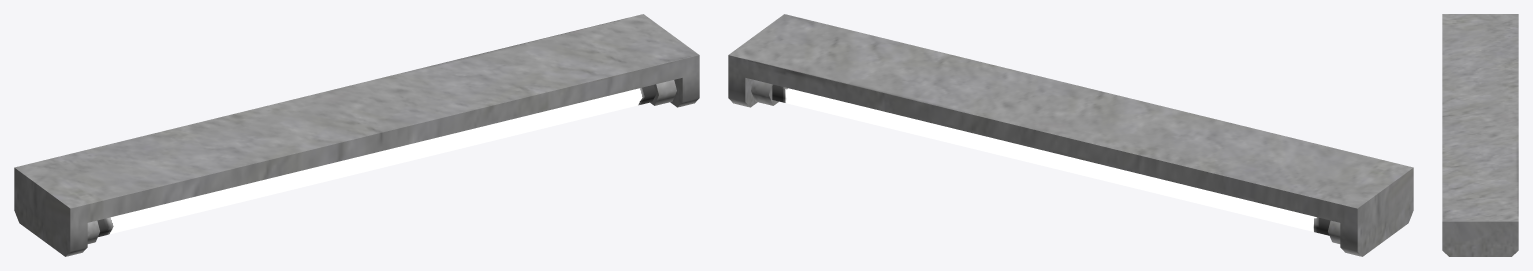
File: LightsType0.glb
The picture shows the model from 3 angles, left to right: view 1: azimuth 30°, elevation 25°; view 2: azimuth 150°, elevation 25°; view 3: azimuth 270°, elevation 25°; orthographic projection. The views are drawn at different scales.
Visible parts, largest first — view 1: Lights; view 2: Lights; view 3: Lights.
Boxes of the visible parts, x1,y1,x2,y2 form: Lights: (14, 14, 699, 256); Lights: (728, 14, 1413, 256); Lights: (1442, 14, 1518, 256).
Size of the model in its own units: 1.98 by 0.1565 by 0.3062.
1 material, 1 textured.
